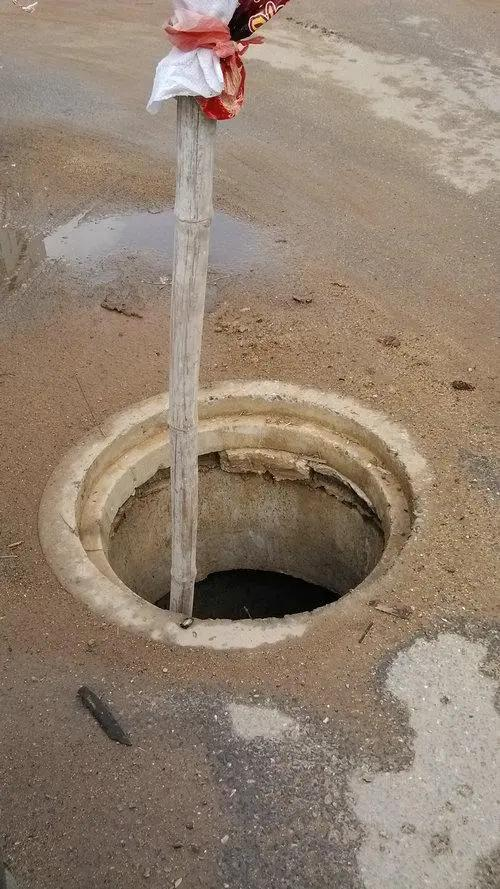wellcover: (36, 352, 440, 641)
